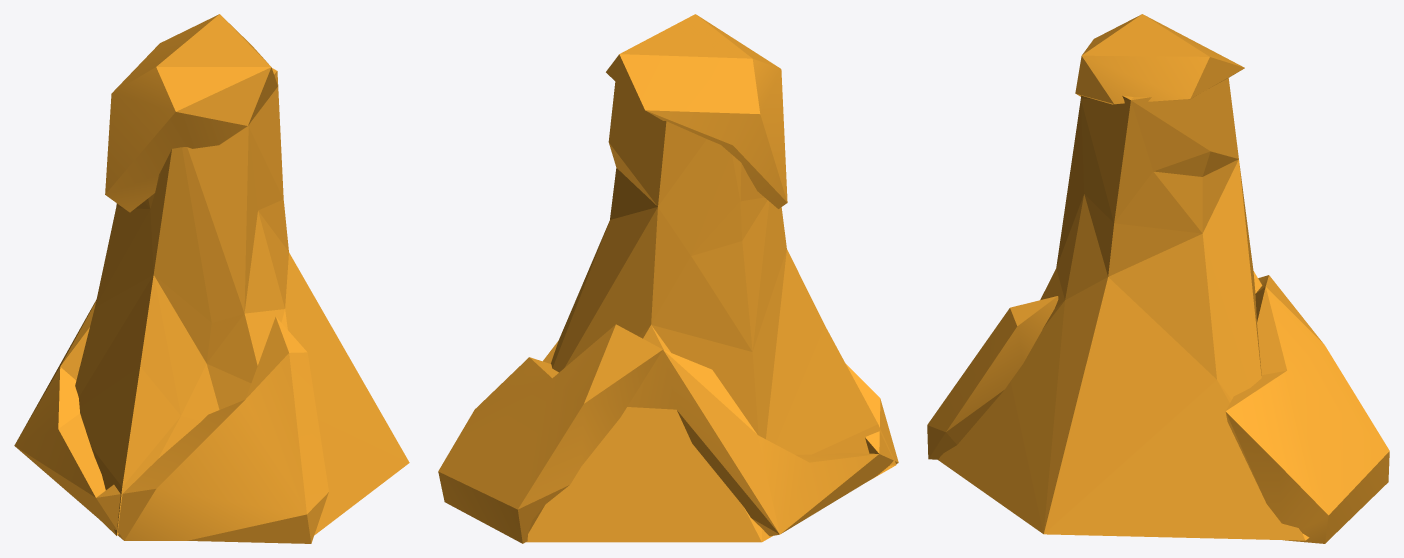
The model's file is SM_Tree_Birch_Stump_B_Snow.fbx.
3 views of the same model, side by side, from view 1: azimuth 30°, elevation 25°; view 2: azimuth 150°, elevation 25°; view 3: azimuth 270°, elevation 25° (orthographic). The views are drawn at different scales.
Parts seen in each view (by area): view 1: tree-birch-stump-b-snow; view 2: tree-birch-stump-b-snow; view 3: tree-birch-stump-b-snow.
Boxes of the visible parts, x1=… form: tree-birch-stump-b-snow: x1=14, y1=14, x2=409, y2=543; tree-birch-stump-b-snow: x1=438, y1=14, x2=898, y2=543; tree-birch-stump-b-snow: x1=927, y1=14, x2=1389, y2=543.
Size of the model in its own units: 0.5969 by 0.7794 by 0.7582.
